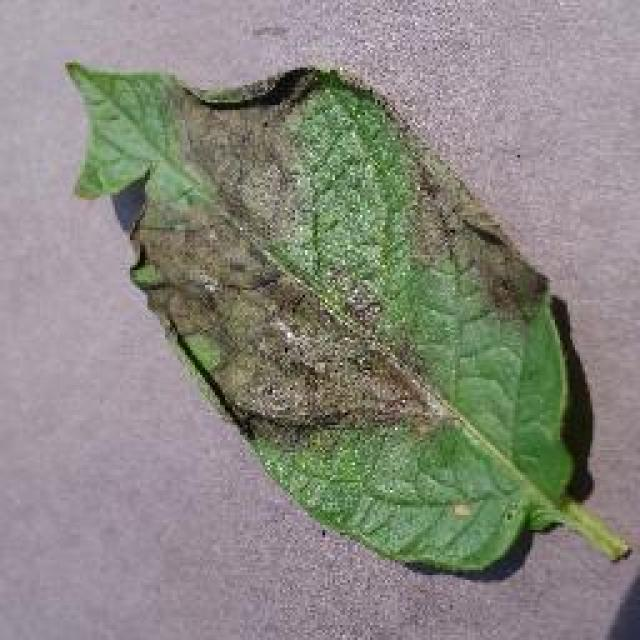late_blight: (62, 55, 620, 577)
